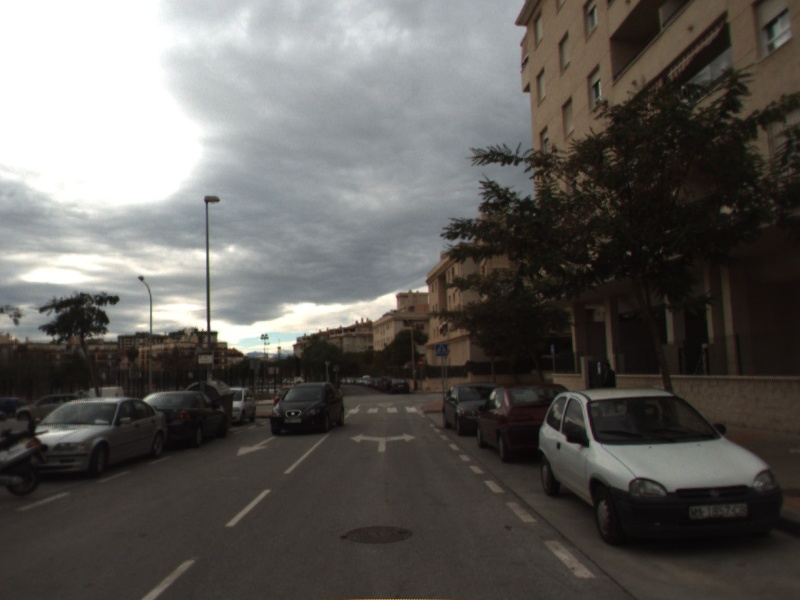LEFT_RIGHT: (348, 431, 418, 454)
